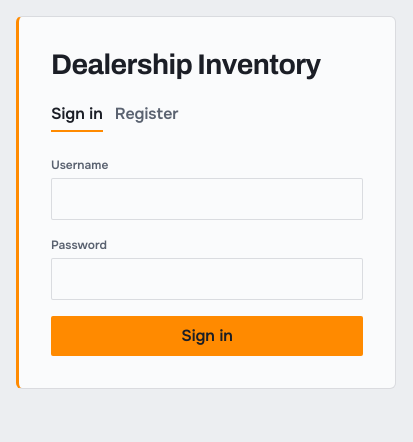
Test: Login page › shows error message on failed login
Type "alice" into the field labelled "Username" at (207, 199), box x1=51 y1=178 x2=363 y2=220
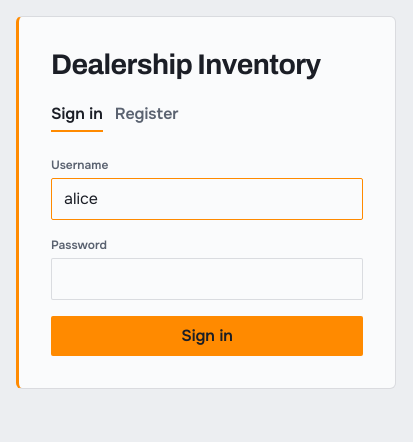
Type "wrong" into the password field labelled "Password" at (207, 279), box x1=51 y1=258 x2=363 y2=300
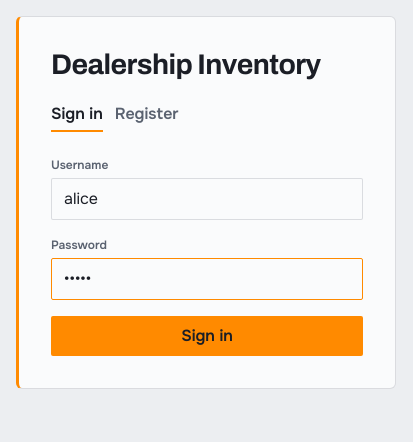
Click the submit button at (207, 336), box x1=51 y1=316 x2=363 y2=356
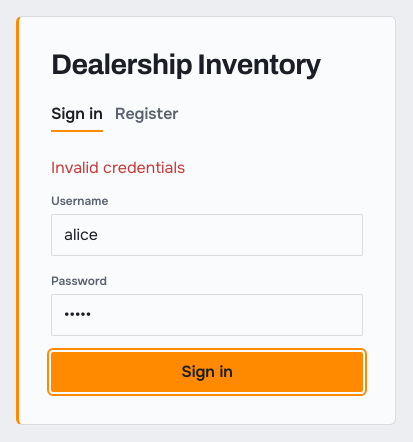
Expected: the text "Invalid credentials" is shown, x1=51 y1=157 x2=185 y2=178
